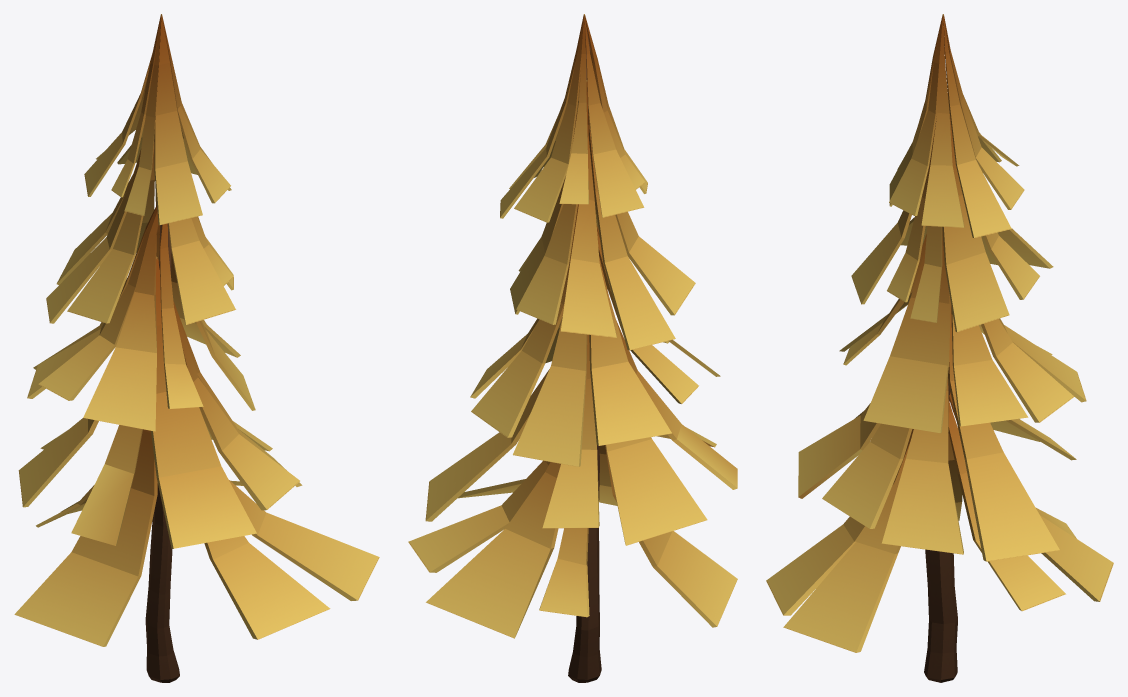
Rendered from FinalTreeJoinedDry.fbx.
The picture shows the model from 3 angles, left to right: view 1: azimuth 30°, elevation 25°; view 2: azimuth 150°, elevation 25°; view 3: azimuth 270°, elevation 25°; orthographic projection.
Visible parts, largest first — view 1: Trunk_LOD0; view 2: Trunk_LOD0; view 3: Trunk_LOD0.
Boxes of the visible parts, x1,y1,x2,y2 form: Trunk_LOD0: (14,14,379,682); Trunk_LOD0: (408,14,737,682); Trunk_LOD0: (766,14,1113,682).
Size of what is drawn, in the model's own units: 410 by 825 by 393.
Materials: 2 (2 with a texture image).
